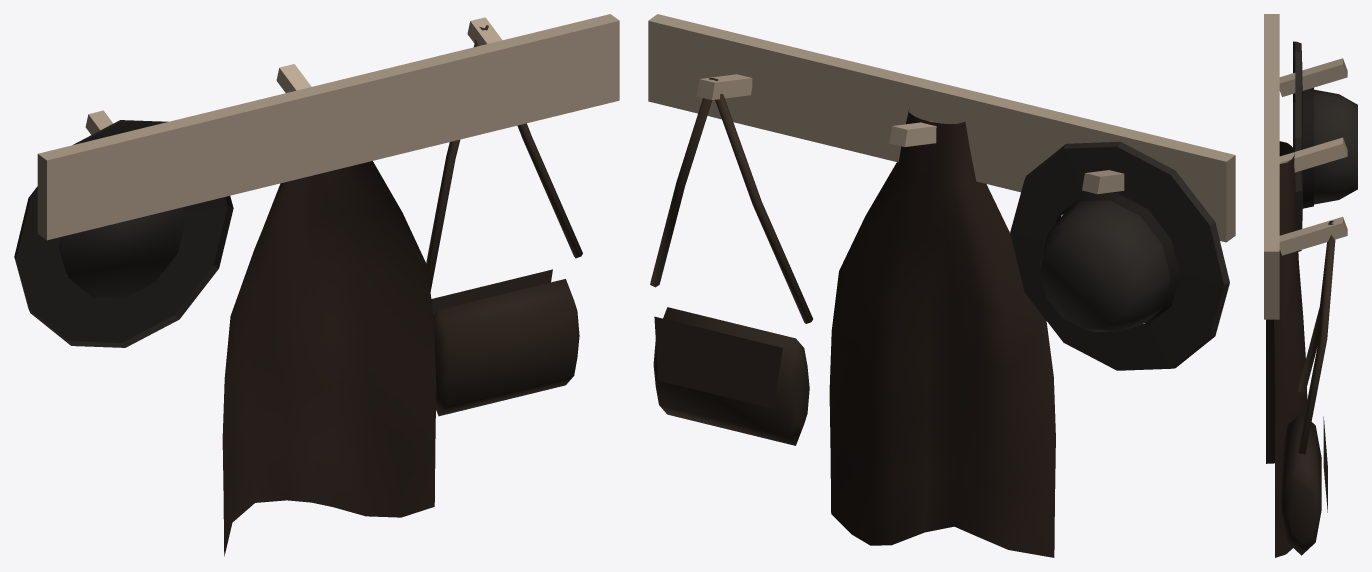
File: prop_inn_pegs.glb
3 renders of one model, left to right at view 1: azimuth 30°, elevation 25°; view 2: azimuth 150°, elevation 25°; view 3: azimuth 270°, elevation 25°, orthographic. The views are drawn at different scales.
Parts seen in each view (by area): view 1: InnPegsSoft, InnPegs; view 2: InnPegsSoft, InnPegs; view 3: InnPegsSoft, InnPegs.
Part boxes in pixels (x1,y1,x2,y2): InnPegsSoft: (14, 25, 582, 556); InnPegs: (37, 14, 619, 240); InnPegsSoft: (650, 78, 1229, 557); InnPegs: (648, 14, 1235, 242); InnPegsSoft: (1266, 41, 1357, 557); InnPegs: (1264, 14, 1347, 319).
Bounding box in the file's own units: 0.92 × 0.6899 × 0.15.
